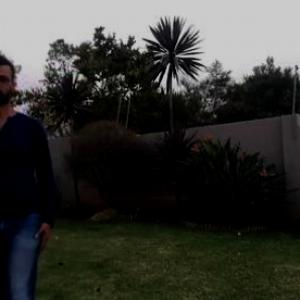follow: (1, 74, 51, 299)
